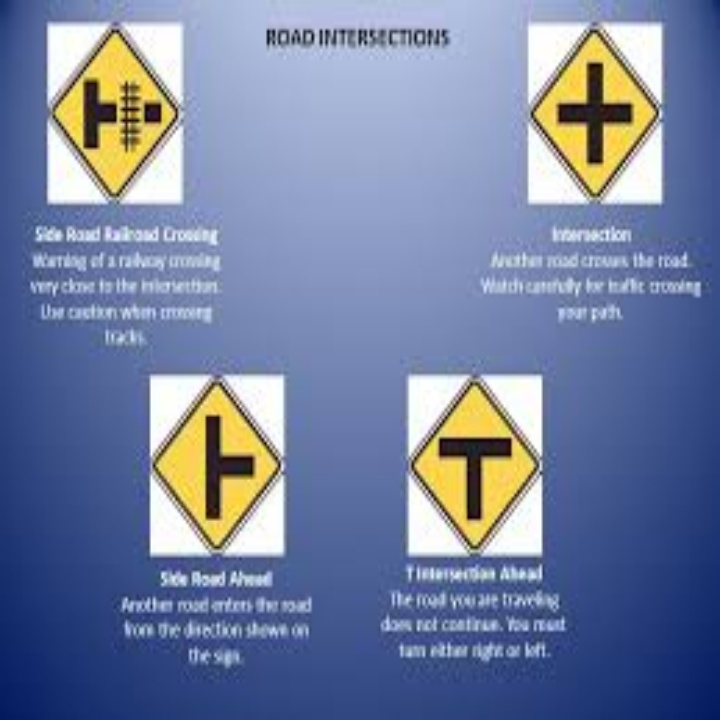inter: (551, 56, 638, 172)
